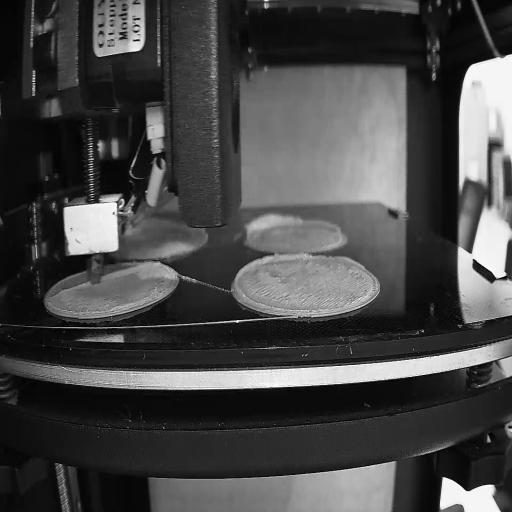over_extrusion: (233, 252, 317, 313), (240, 211, 303, 240), (102, 260, 160, 282), (56, 278, 90, 298), (330, 252, 364, 269), (306, 218, 342, 232)
